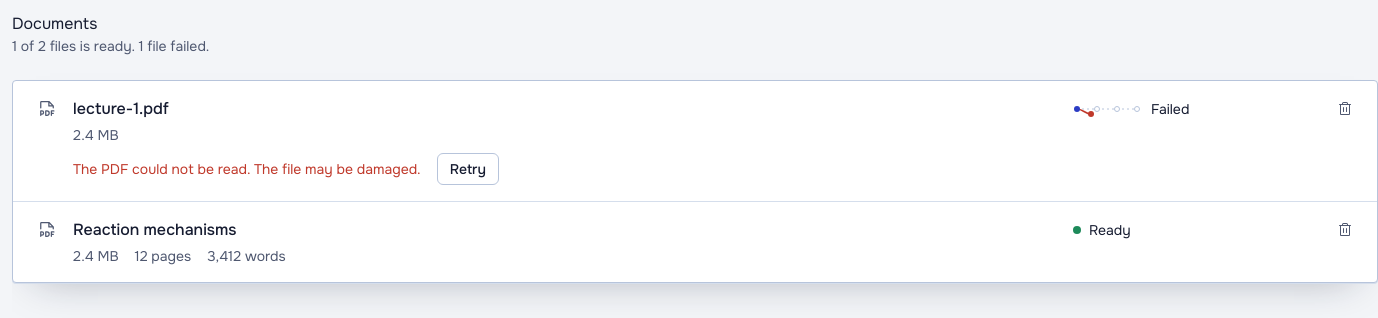
Test: DocumentList retry and delete › keeps the focus on the row when a retry is refused because processing is under way
Step 1. Click the button named "Retry lecture-1.pdf" → (468, 169), box top-left (437, 153), bottom-right (499, 185)
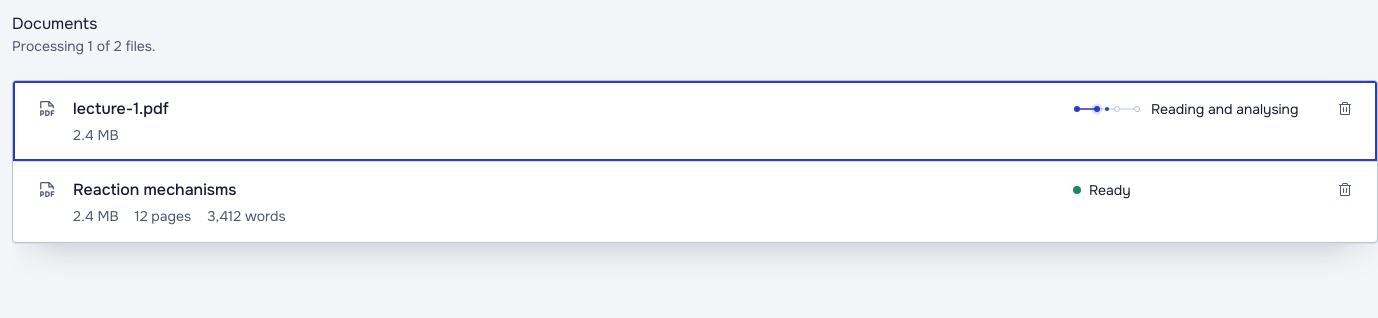
Expected: the text "Reading and analysing" is shown, top-left (1151, 99), bottom-right (1298, 119)
